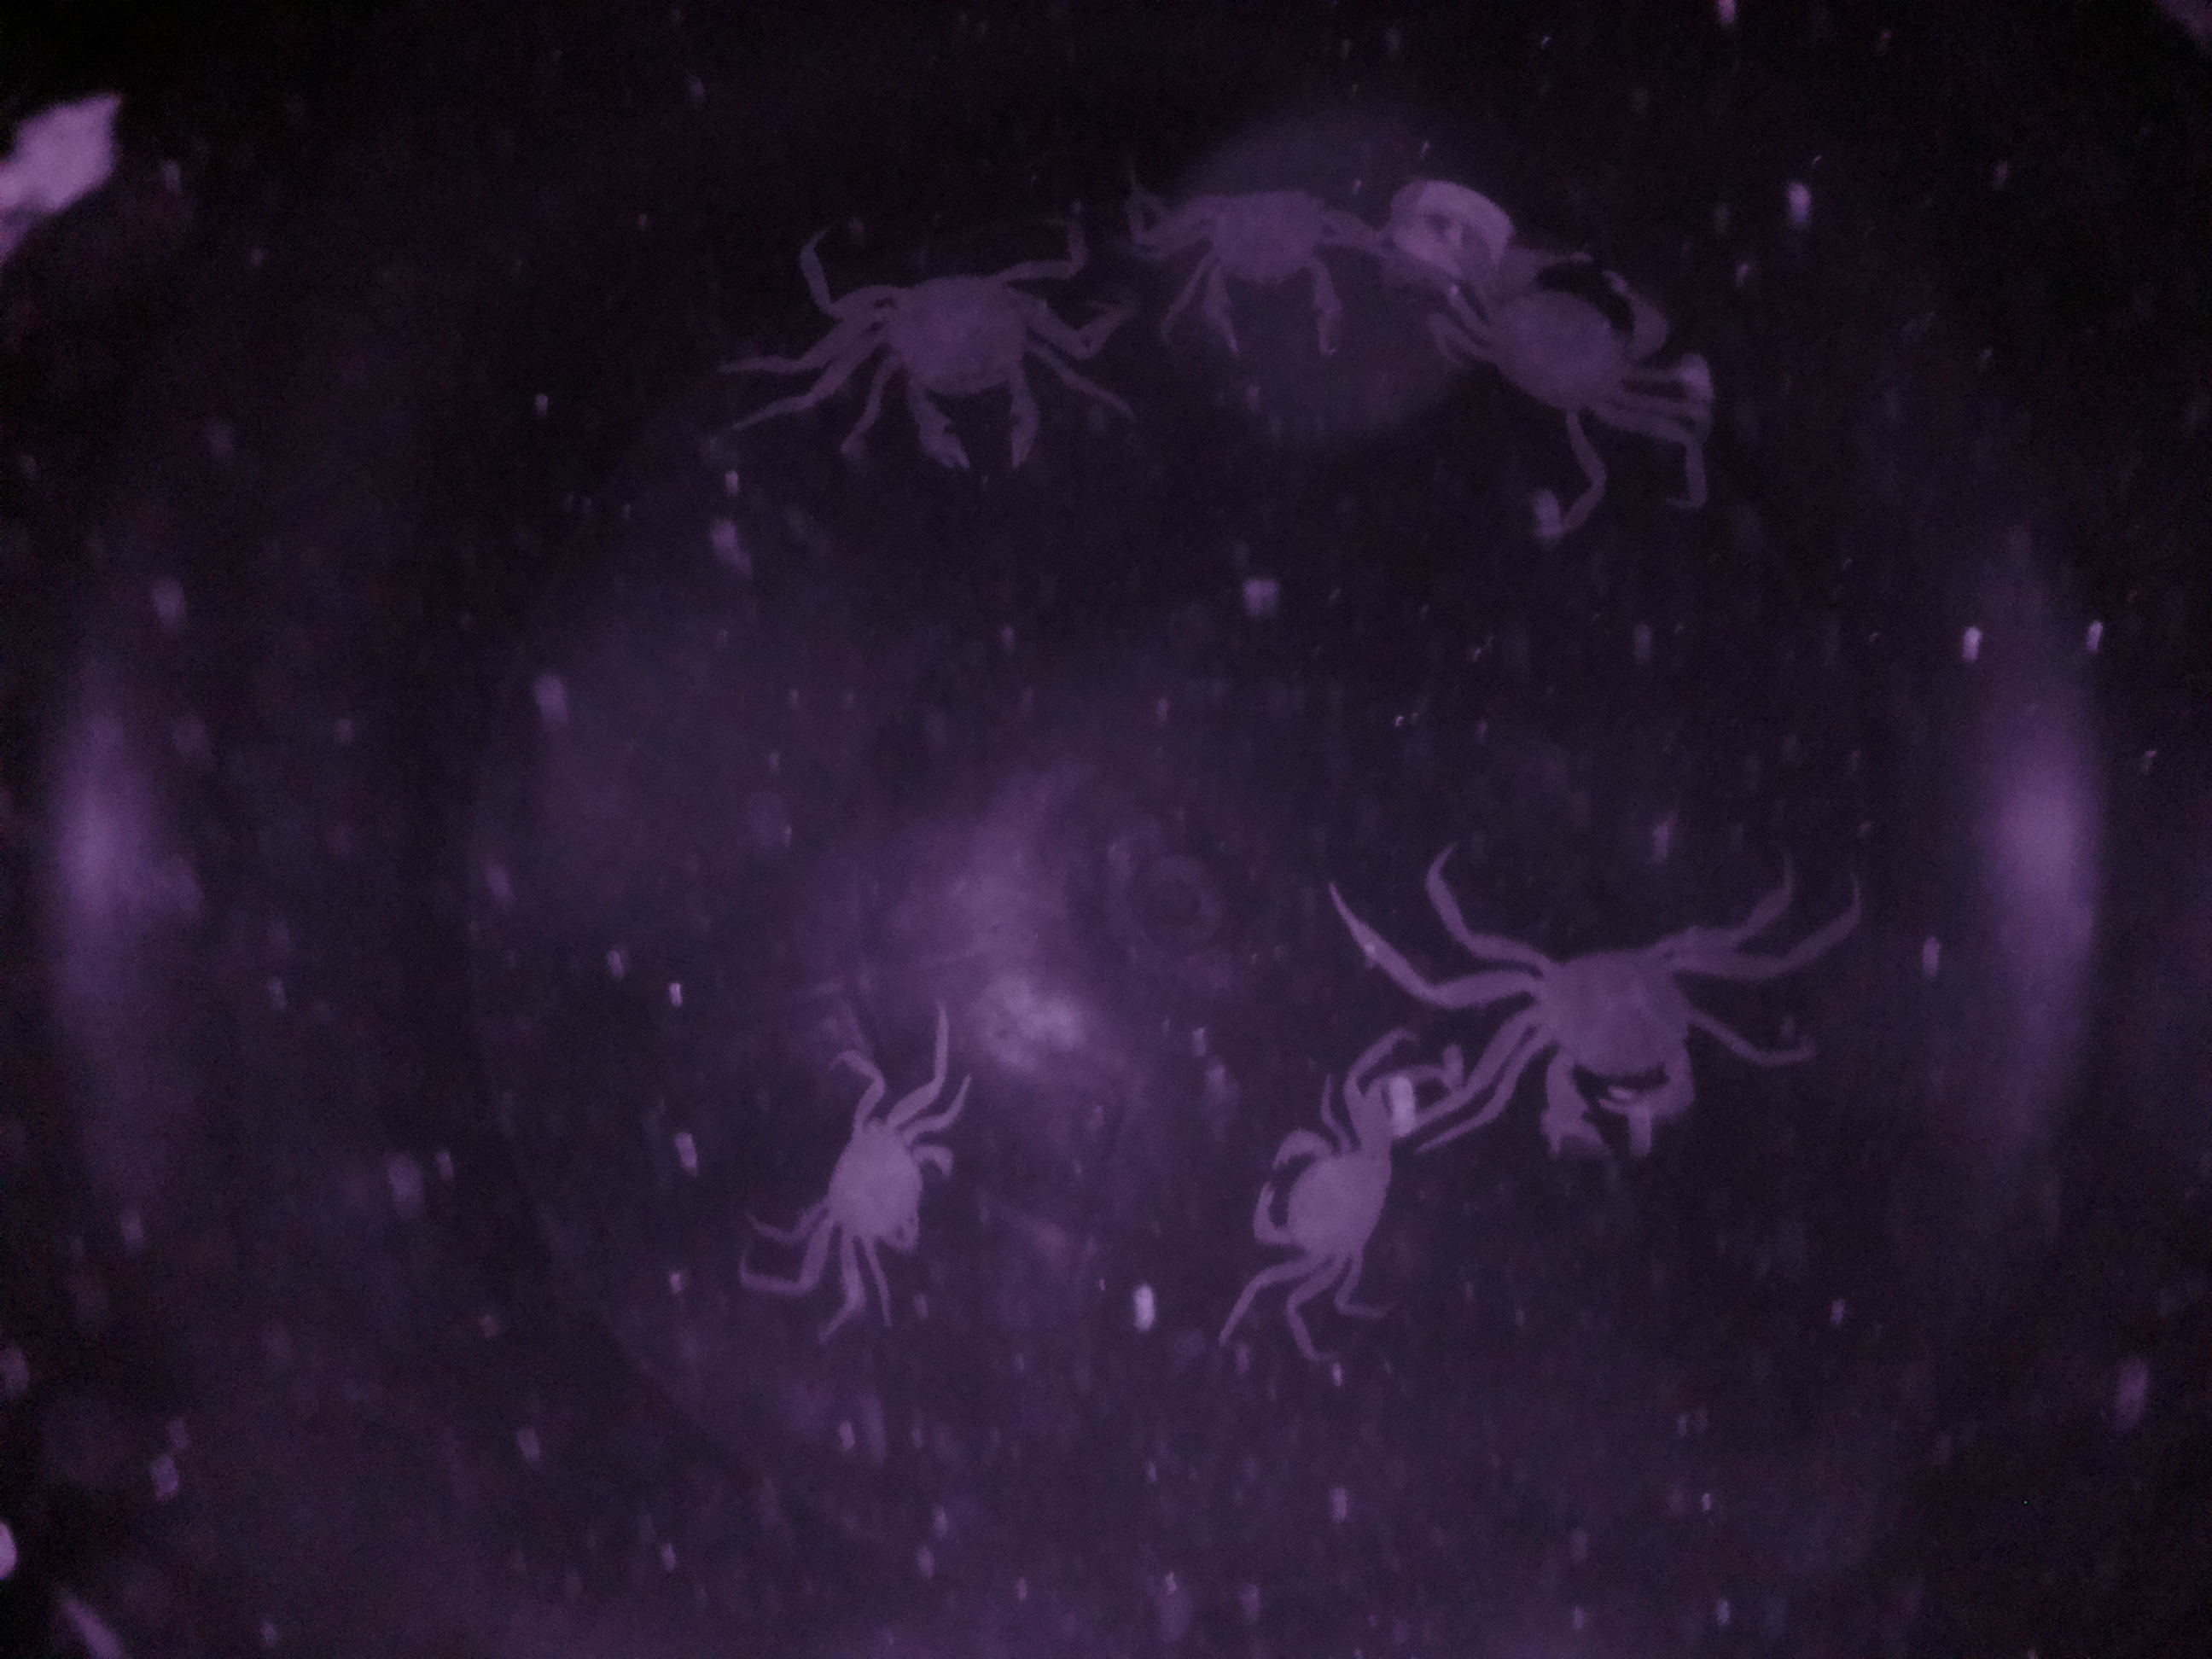Crab: (1463, 908, 1761, 1169), (826, 246, 1122, 486), (1465, 227, 1763, 429), (1150, 166, 1390, 390), (808, 1070, 988, 1284), (1251, 1082, 1414, 1312)
